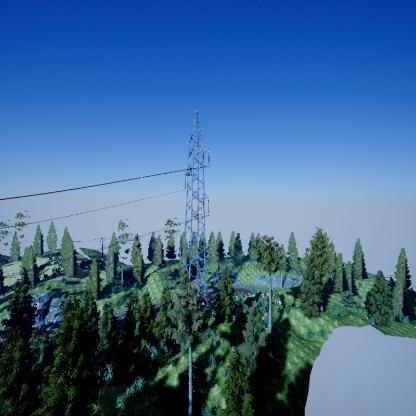tower: (182, 108, 212, 308)
